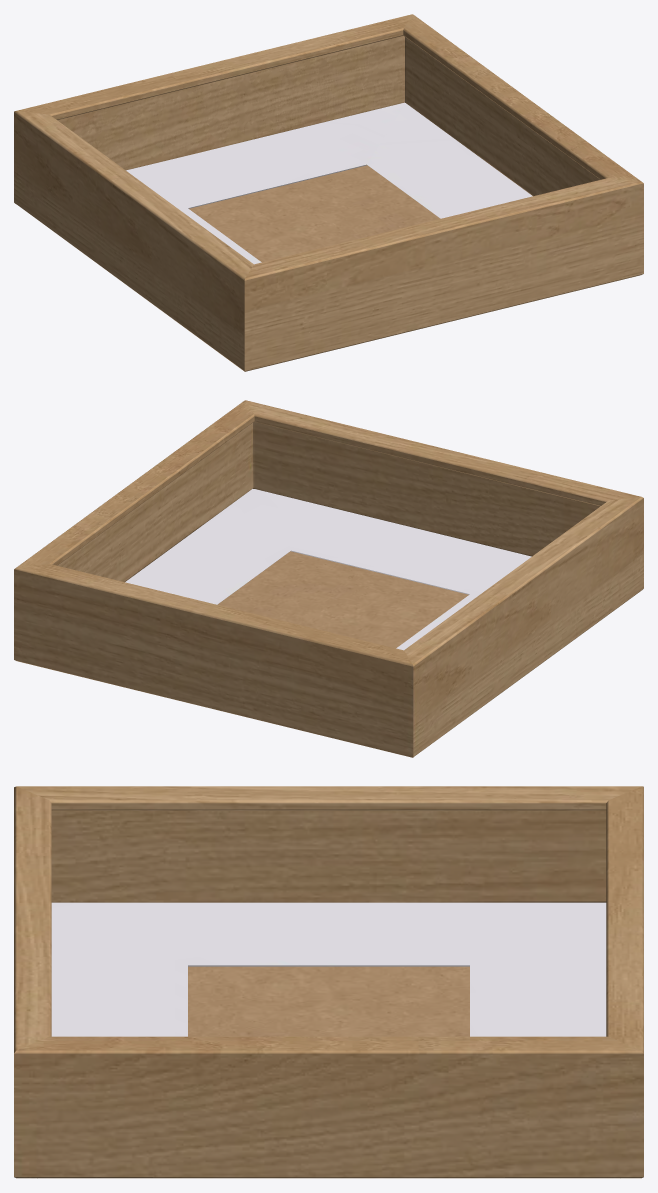
Rendered from small-oak.glb.
3 renders of one model, top to bottom at view 1: azimuth 30°, elevation 25°; view 2: azimuth 150°, elevation 25°; view 3: azimuth 270°, elevation 25°, orthographic. The views are drawn at different scales.
Visible parts, largest first — view 1: ASY_ART_20568911_S01_NV01; view 2: ASY_ART_20568911_S01_NV01; view 3: ASY_ART_20568911_S01_NV01.
Boxes of the visible parts, left/top/right/bottom form: ASY_ART_20568911_S01_NV01: left=14, top=14, right=643, bottom=371; ASY_ART_20568911_S01_NV01: left=14, top=400, right=643, bottom=757; ASY_ART_20568911_S01_NV01: left=14, top=786, right=643, bottom=1178.
Bounding box in the file's own units: 0.268 × 0.0604 × 0.268.
Materials: 2 (1 with a texture image).
